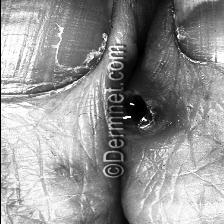Toxin: (105, 93, 150, 123)
